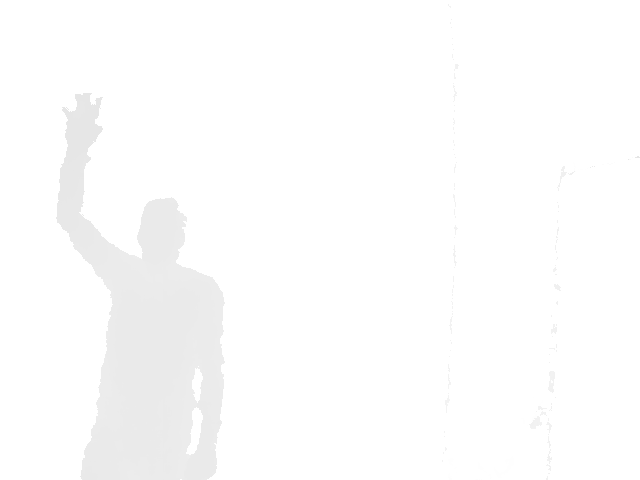hand: (60, 91, 105, 149)
head: (136, 197, 188, 270)
person: (54, 91, 228, 479)
